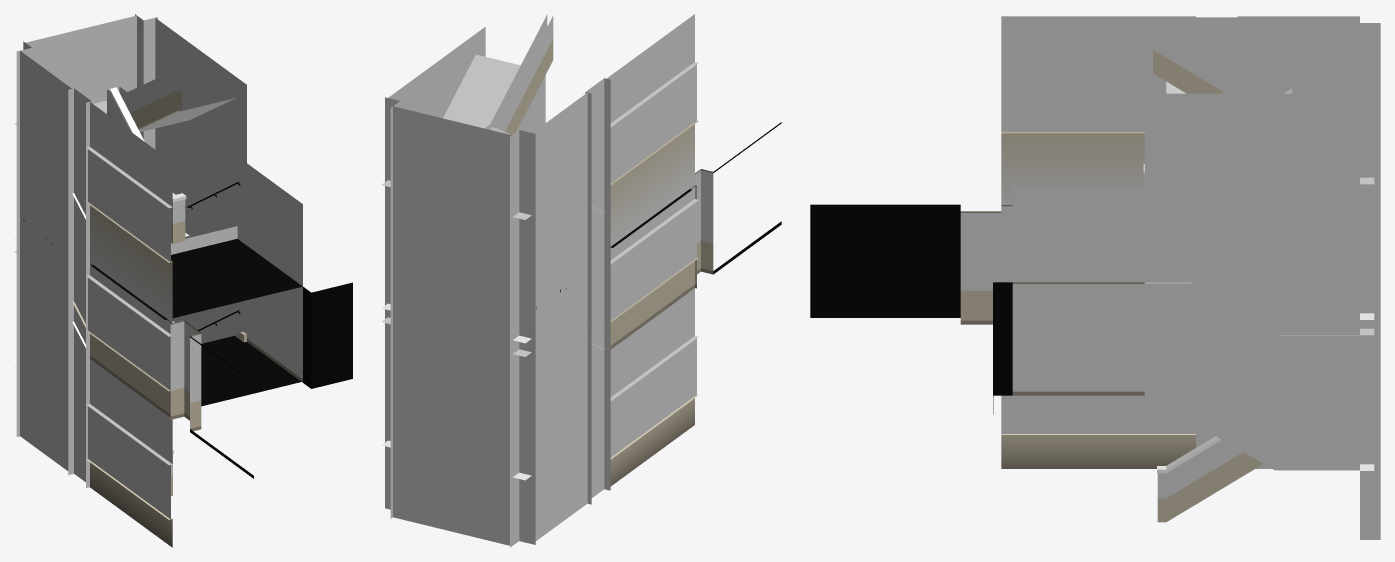
File: b01_classroom_stairs_10.fbx
3 renders of one model, left to right at view 1: azimuth 30°, elevation 25°; view 2: azimuth 150°, elevation 25°; view 3: azimuth 270°, elevation 25°, orthographic. The views are drawn at different scales.
Visible parts, largest first — view 1: b01_classroom_stairs_10; view 2: b01_classroom_stairs_10; view 3: b01_classroom_stairs_10.
Boxes of the visible parts, x1,y1,x2,y2 form: b01_classroom_stairs_10: [14, 14, 352, 547]; b01_classroom_stairs_10: [382, 14, 781, 547]; b01_classroom_stairs_10: [810, 16, 1380, 539].
Bounding box in the file's own units: 588 × 1331 × 1370.
